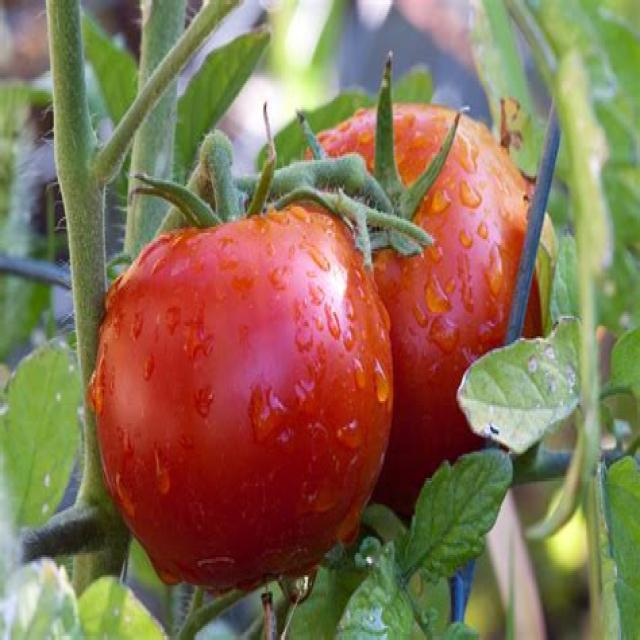Tomato: (87, 198, 394, 598), (312, 104, 534, 519)
